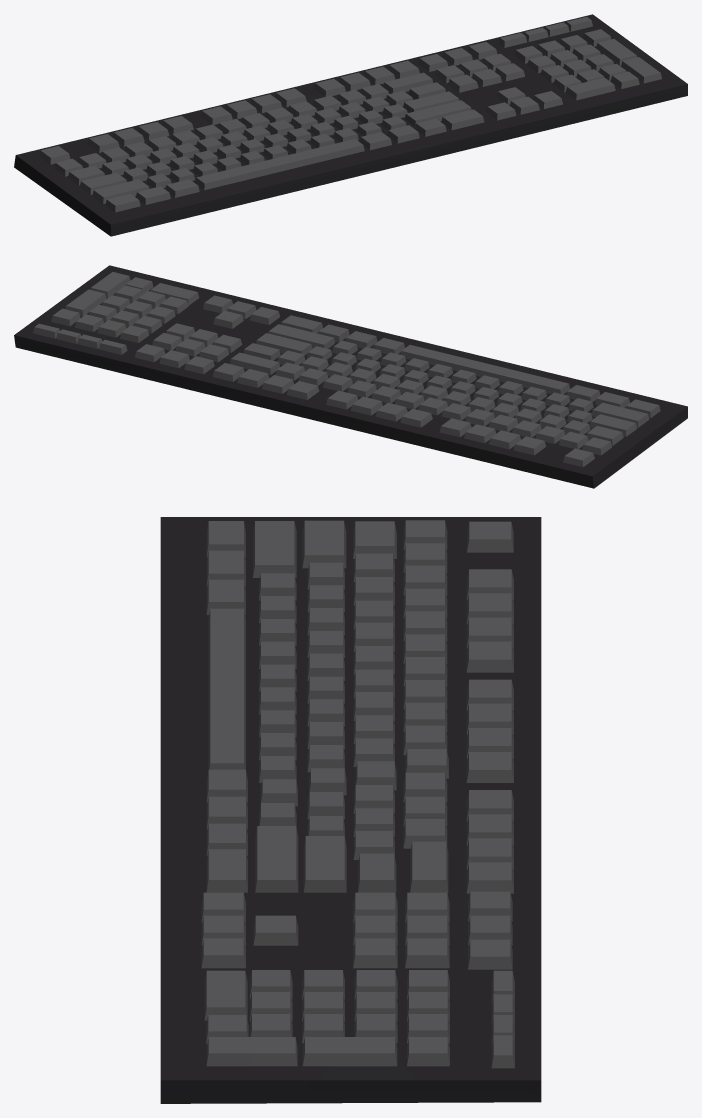
The model's file is keyboard.fbx.
The picture shows the model from 3 angles, top to bottom: view 1: azimuth 30°, elevation 25°; view 2: azimuth 150°, elevation 25°; view 3: azimuth 270°, elevation 25°; orthographic projection. The views are drawn at different scales.
Parts seen in each view (by area): view 1: keyboard; view 2: keyboard; view 3: keyboard.
Boxes of the visible parts, x1,y1,x2,y2 form: keyboard: [14, 14, 687, 236]; keyboard: [14, 265, 687, 488]; keyboard: [160, 517, 541, 1103].
Bounding box in the file's own units: 2211 × 65.5 × 630.
